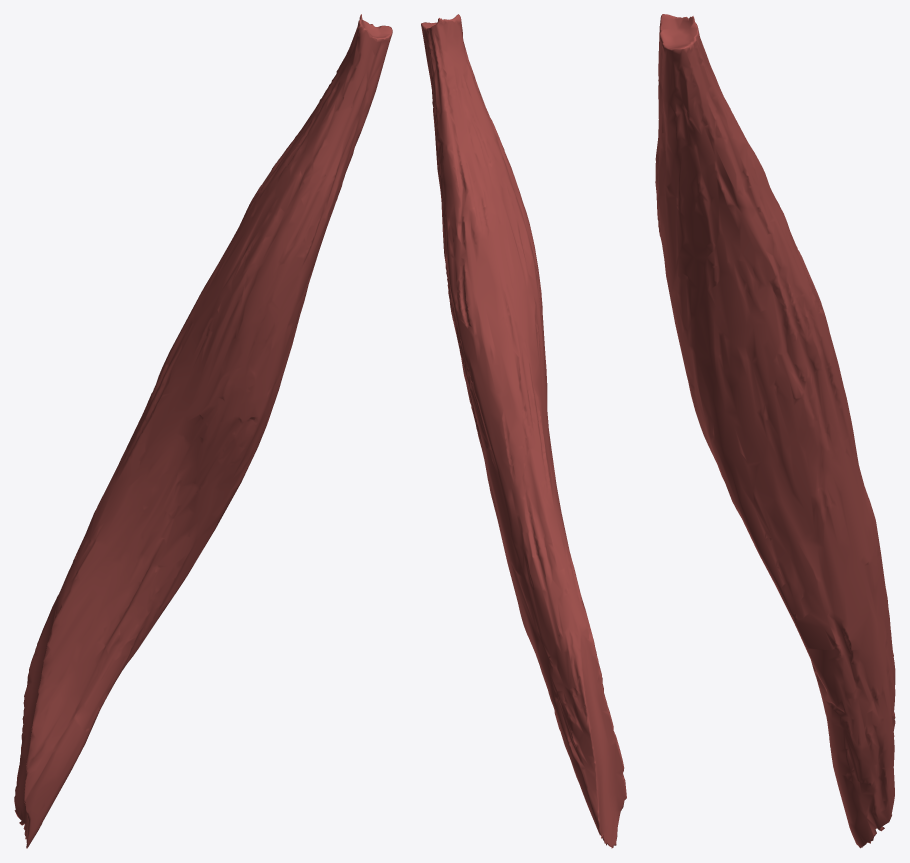
File: FMA37665.glb
3 views of the same model, side by side, from view 1: azimuth 30°, elevation 25°; view 2: azimuth 150°, elevation 25°; view 3: azimuth 270°, elevation 25° (orthographic). The views are drawn at different scales.
Visible parts, largest first — view 1: FMA37665; view 2: FMA37665; view 3: FMA37665.
Boxes of the visible parts, x1,y1,x2,y2 form: FMA37665: (14, 14, 392, 848); FMA37665: (421, 14, 626, 848); FMA37665: (655, 14, 895, 848).
Bounding box in the file's own units: 0.0588 × 0.1541 × 0.0339.
